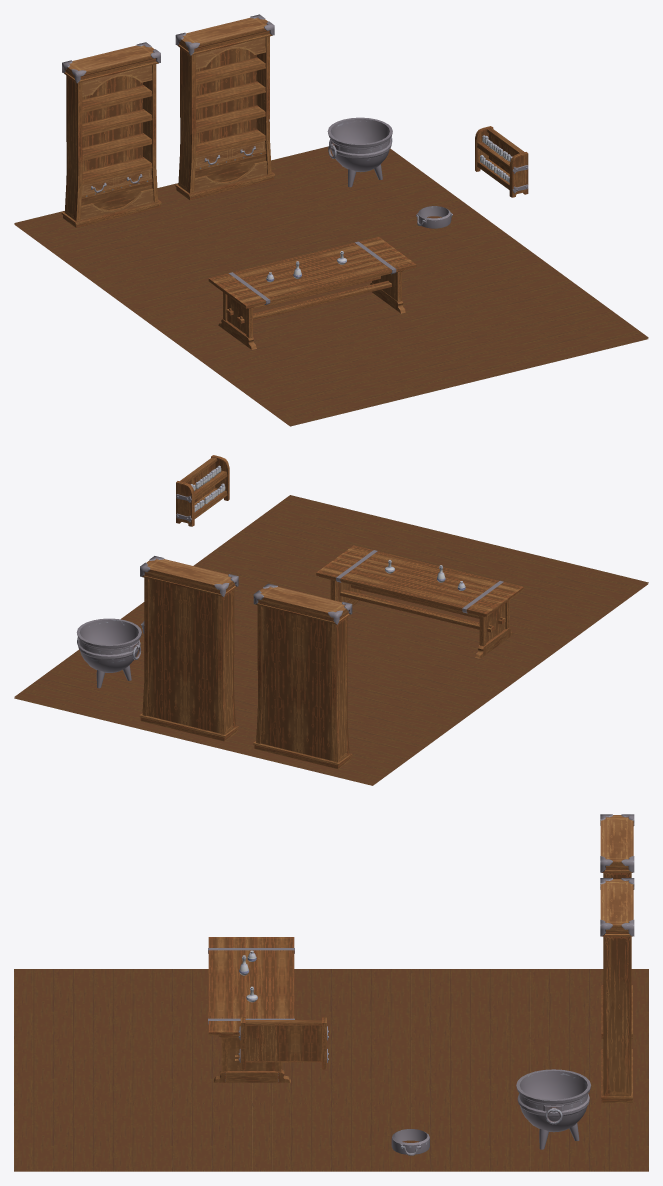
File: shop_potion_in.gltf
3 views of the same model, one above another, from view 1: azimuth 30°, elevation 25°; view 2: azimuth 150°, elevation 25°; view 3: azimuth 270°, elevation 25° (orthographic). The views are drawn at different scales.
Visible parts, largest first — view 1: shop_potion_in; view 2: shop_potion_in; view 3: shop_potion_in.
Boxes of the visible parts, bbox=[...] form: shop_potion_in: bbox=[14, 14, 648, 426]; shop_potion_in: bbox=[14, 455, 648, 785]; shop_potion_in: bbox=[14, 814, 648, 1171].
Size of the model in its own units: 6 by 2.55 by 8.
4 materials, 4 textured.
